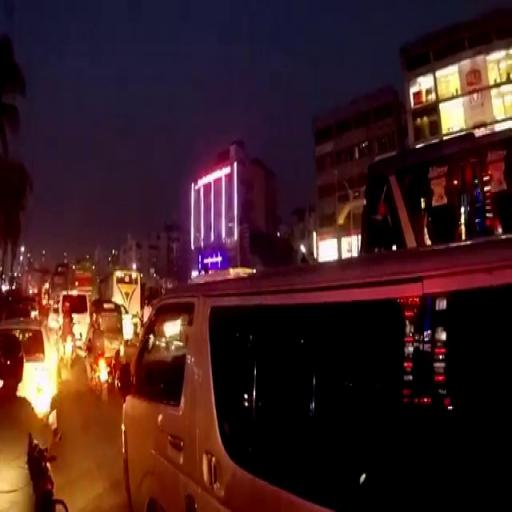bus: (98, 267, 141, 308), (69, 256, 100, 296), (48, 270, 69, 293)
car: (1, 317, 60, 440)
motorbike: (27, 407, 70, 512), (83, 340, 113, 402), (62, 328, 77, 368)
three wheelers (CNG): (90, 297, 124, 358)
van: (120, 237, 512, 512), (58, 288, 90, 337)
